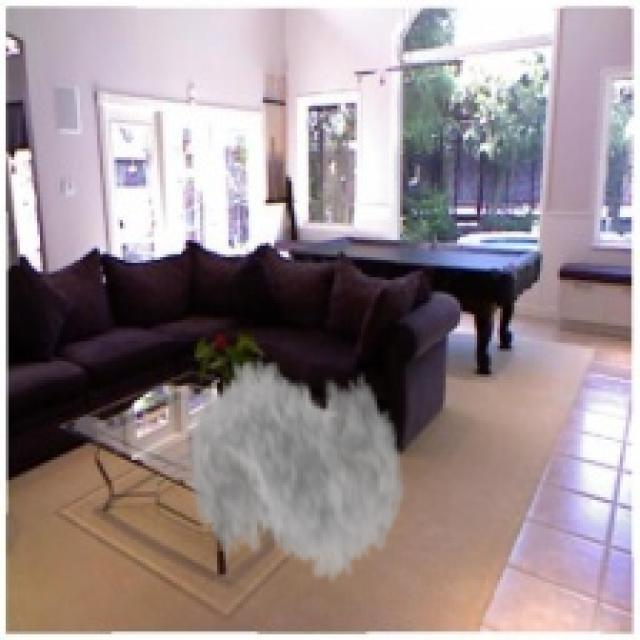Smoke: (186, 328, 406, 603)
